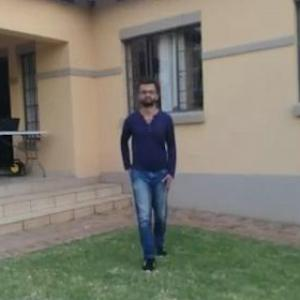follow: (119, 66, 178, 244)
